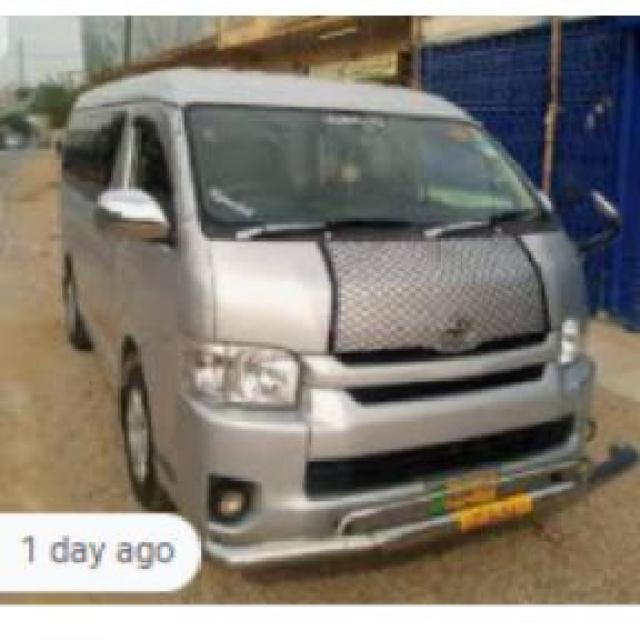Van: (67, 69, 598, 564)
